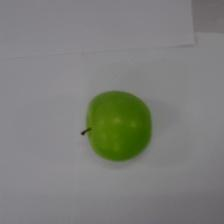green: (78, 86, 154, 164)
